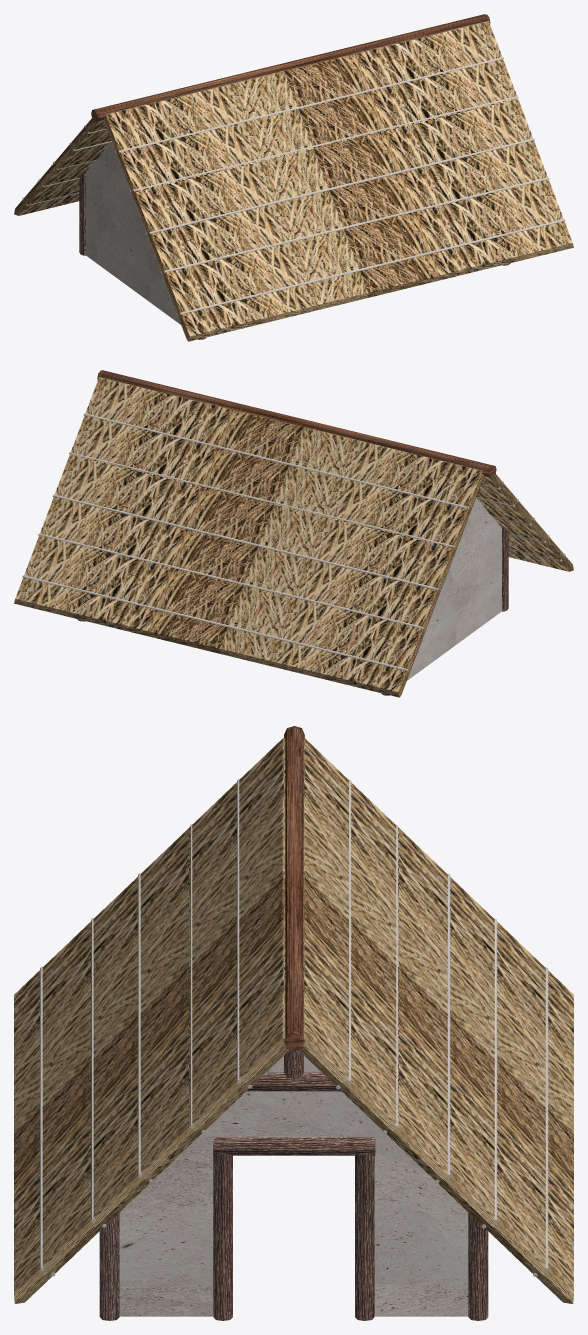
Rendered from RectangularHouseSmall.fbx.
The picture shows the model from 3 angles, top to bottom: view 1: azimuth 30°, elevation 25°; view 2: azimuth 150°, elevation 25°; view 3: azimuth 270°, elevation 25°; orthographic projection. The views are drawn at different scales.
Visible parts, largest first — view 1: Wall.001; view 2: Wall.001; view 3: Wall.001.
Part boxes in pixels (x1,y1,x2,y2): Wall.001: (14,14,573,341); Wall.001: (14,370,573,697); Wall.001: (14,726,573,1320).
Size of the model in its own units: 1026 by 491 by 790.
